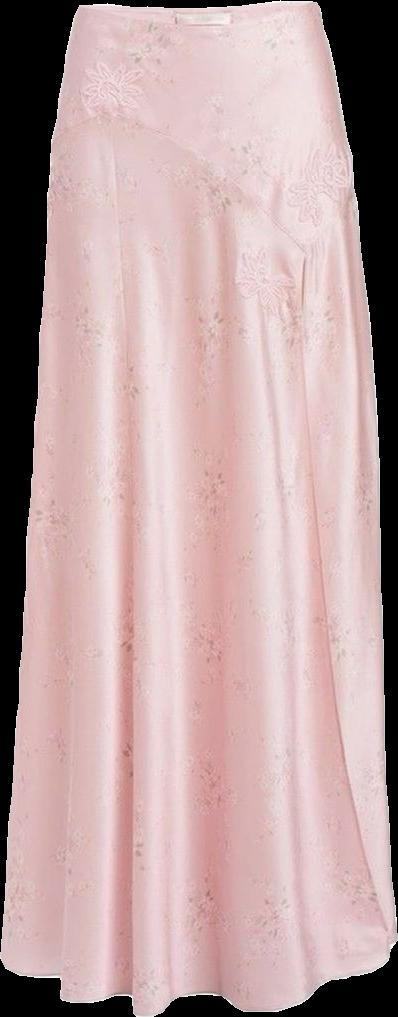Hemline: (0, 935, 397, 1016)
Waistline: (49, 112, 356, 262), (72, 0, 324, 14)
